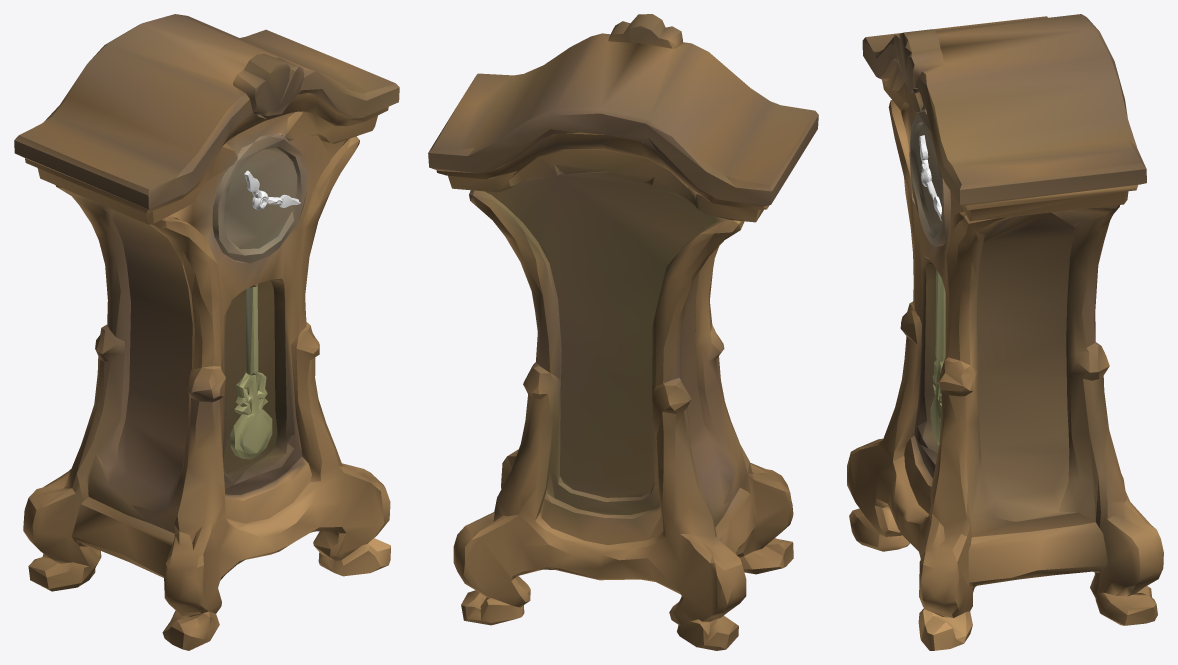
The model's file is Clock01.fbx.
3 renders of one model, left to right at view 1: azimuth 30°, elevation 25°; view 2: azimuth 150°, elevation 25°; view 3: azimuth 270°, elevation 25°, orthographic. The views are drawn at different scales.
Parts seen in each view (by area): view 1: Body1, Pendulum; view 2: Body1; view 3: Body1, Pendulum.
Boxes of the visible parts, bbox=[...] form: Body1: bbox=[14, 14, 399, 650]; Pendulum: bbox=[230, 284, 272, 459]; Body1: bbox=[428, 14, 818, 650]; Body1: bbox=[847, 14, 1163, 650]; Pendulum: bbox=[930, 270, 945, 445].
Size of the model in its own units: 145 by 219 by 113.
